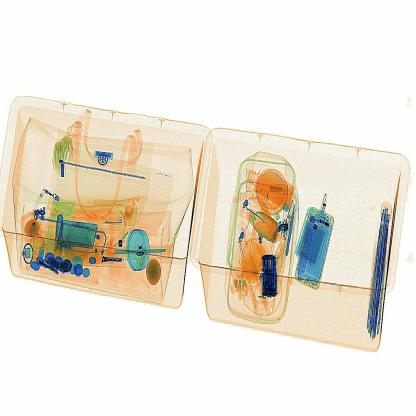scissors: (256, 254, 282, 306)
